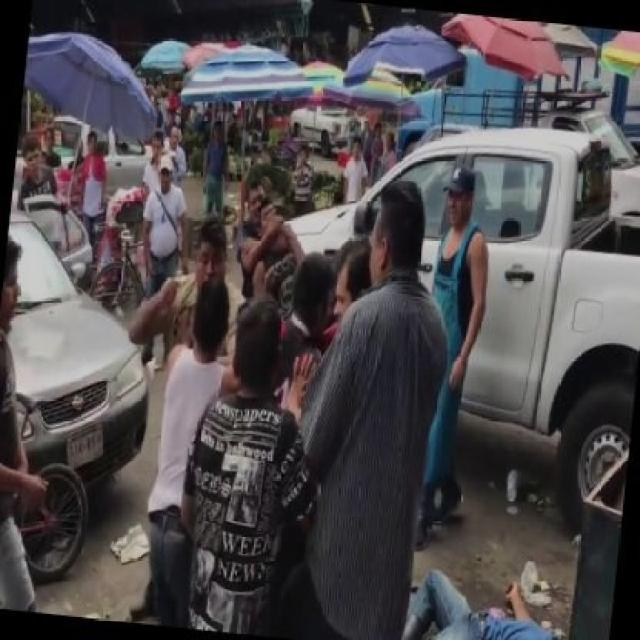fight: (119, 217, 271, 626)
non-fight: (295, 169, 454, 640), (182, 302, 314, 640), (427, 164, 493, 536)
